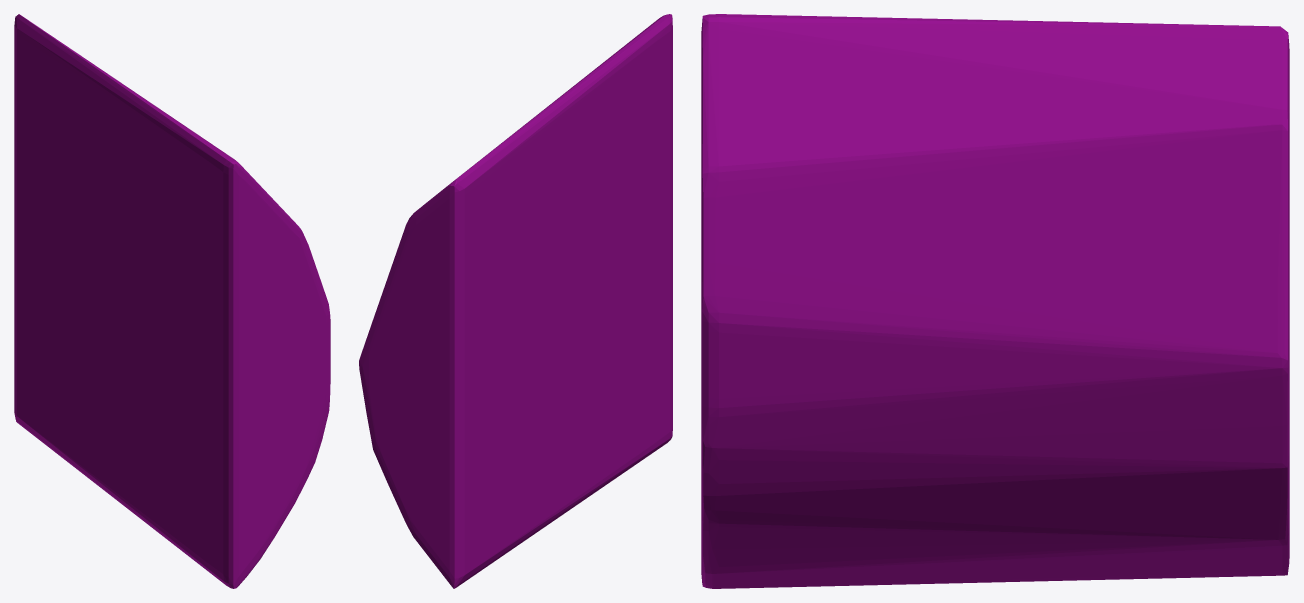
The model's file is left_th_proximal_part_14.obj.
3 views of the same model, side by side, from view 1: azimuth 30°, elevation 25°; view 2: azimuth 150°, elevation 25°; view 3: azimuth 270°, elevation 25° (orthographic). The views are drawn at different scales.
Bounding box in the file's own units: 4.25 × 16.62 × 15.51.
